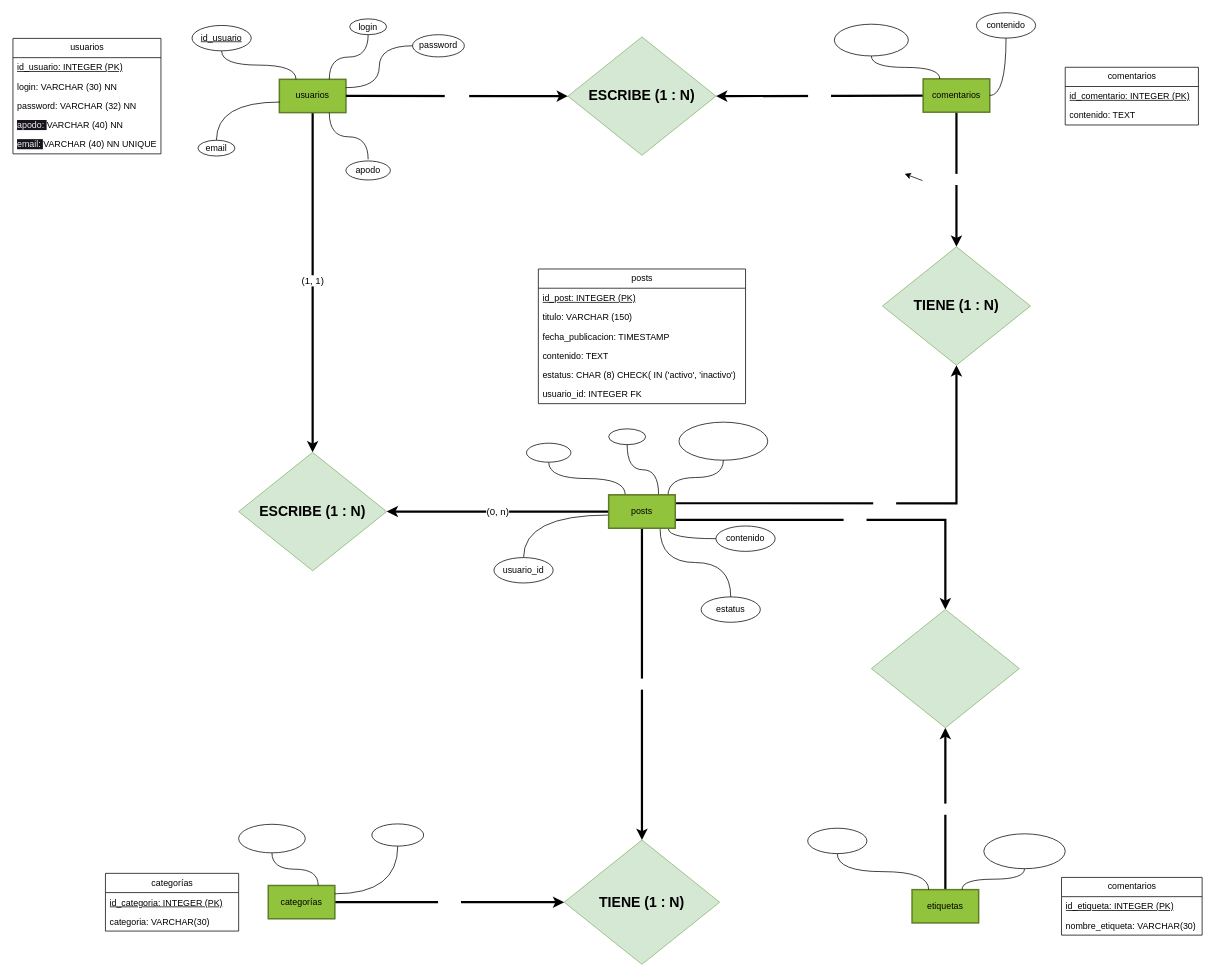
The diagram is 1215 pixels wide and 978 high, and some of its shapes have lost their labels. Each missing label, with the box of its shape:
categoría: (371, 823, 424, 846)
fecha_publicacion: (678, 421, 768, 460)
id_categoria: (238, 824, 305, 853)
id_comentario: (834, 23, 908, 56)
id_etiqueta: (807, 827, 867, 854)
id_post: (526, 442, 571, 462)
nombre_etiqueta: (983, 833, 1065, 869)
TIENE (N : M): (871, 609, 1019, 728)
titulo: (608, 428, 646, 445)
